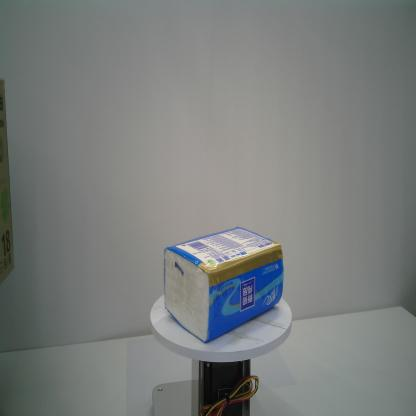Tissue: (162, 225, 284, 343)
